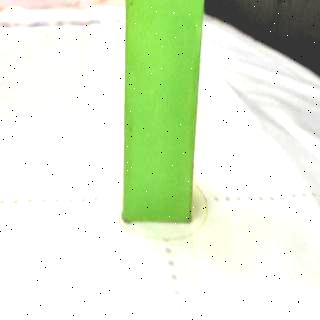greenbox: (123, 1, 203, 223)
